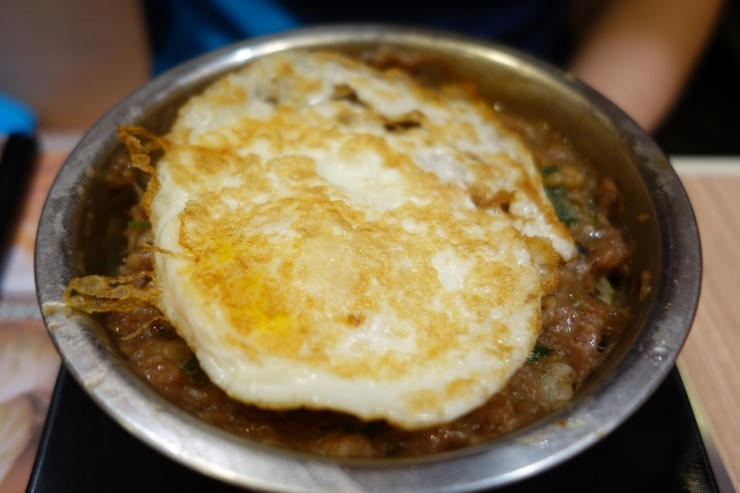fried egg: (156, 67, 549, 407)
